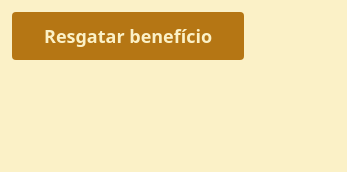
Scenario: Resgatar › gera e apresenta o cupom
Click the button "Resgatar benefício" at x=128, y=36, box [12,12,244,60]
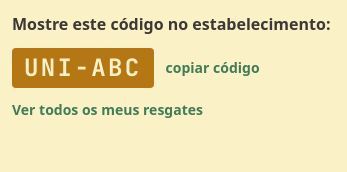
Check: the text "UNI-ABC" is shown, box [12,48,154,88]
